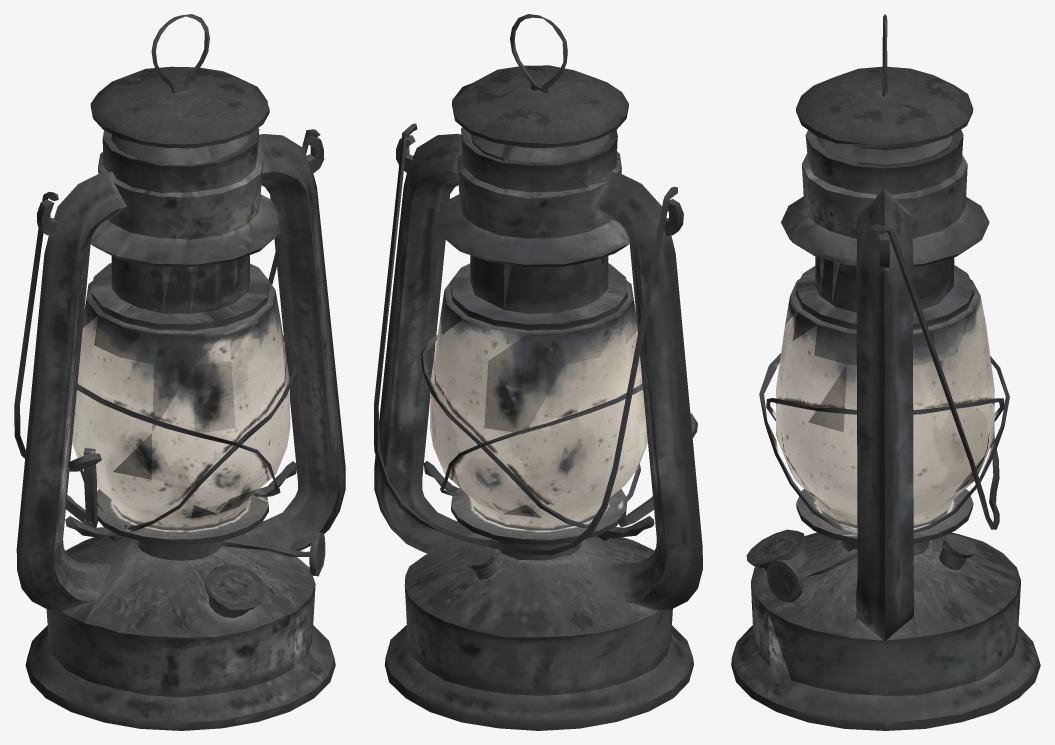
Rendered from LanternOil.glb.
3 views of the same model, side by side, from view 1: azimuth 30°, elevation 25°; view 2: azimuth 150°, elevation 25°; view 3: azimuth 270°, elevation 25° (orthographic).
Parts seen in each view (by area): view 1: LanternOil; view 2: LanternOil; view 3: LanternOil.
Boxes of the visible parts, box(x1,y1,x2,y2) form: LanternOil: box(14, 14, 345, 730); LanternOil: box(374, 14, 702, 730); LanternOil: box(731, 14, 1040, 730).
Bounding box in the file's own units: 0.2668 × 0.504 × 0.218.
2 materials, 2 textured.
